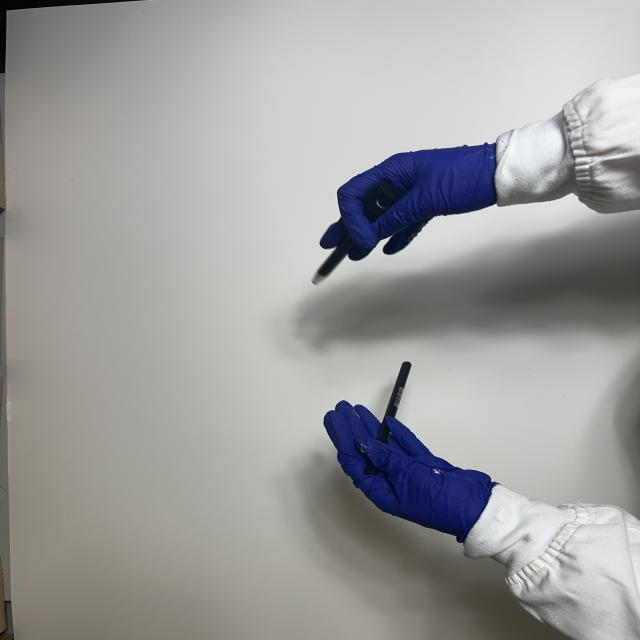gloves_contaminated: (324, 402, 496, 541), (320, 143, 497, 261)
